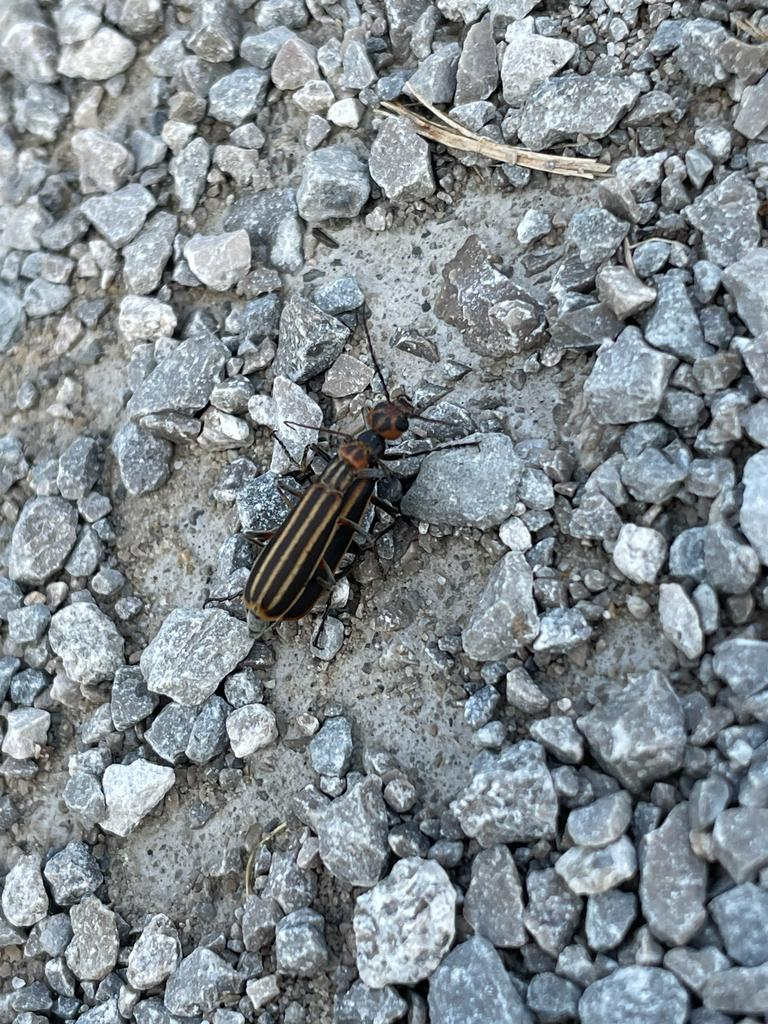blister_beetle: (154, 258, 576, 699)
